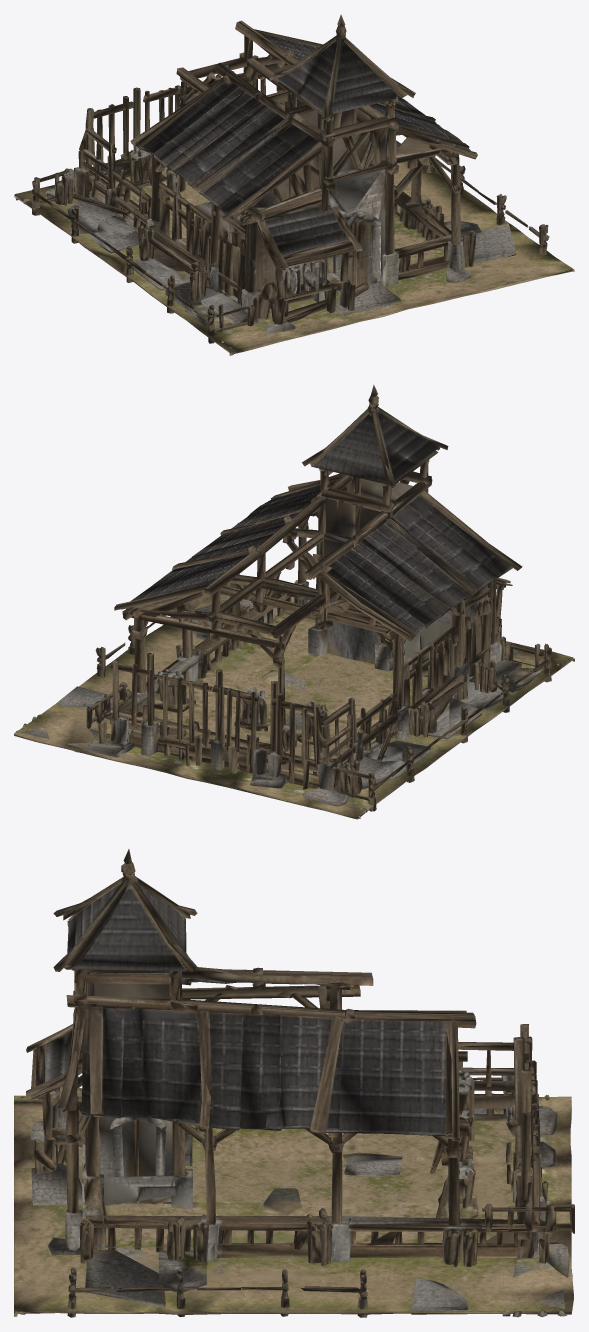
File: Archery Range.glb
3 renders of one model, top to bottom at view 1: azimuth 30°, elevation 25°; view 2: azimuth 150°, elevation 25°; view 3: azimuth 270°, elevation 25°, orthographic. The views are drawn at different scales.
Visible parts, largest first — view 1: Mesh_0; view 2: Mesh_0; view 3: Mesh_0.
Part boxes in pixels (x1,y1,x2,y2): Mesh_0: [14, 14, 574, 355]; Mesh_0: [14, 384, 574, 819]; Mesh_0: [14, 849, 574, 1317].
Bounding box in the file's own units: 0.1575 × 0.12 × 0.1716.
Materials: 1 (1 with a texture image).
